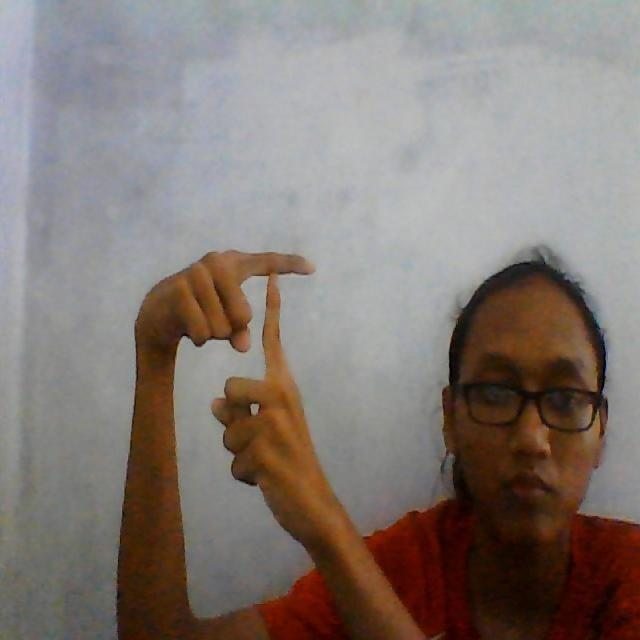T: (133, 214, 342, 531)
